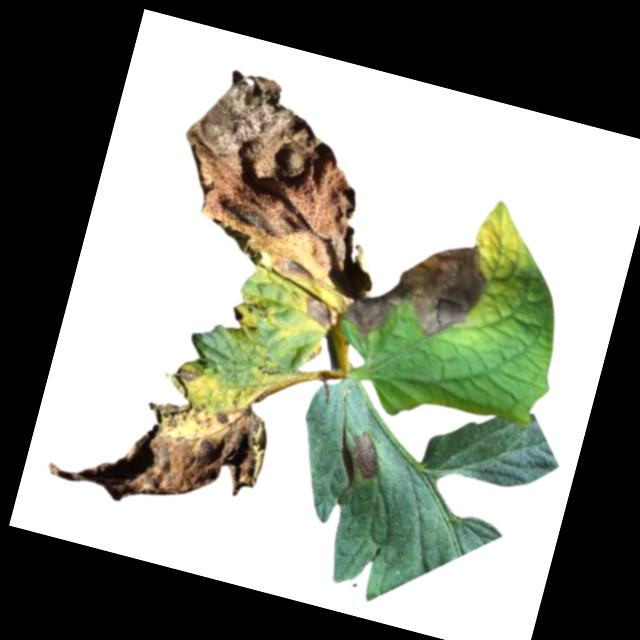Early_blight: (156, 61, 383, 288), (42, 338, 286, 536), (338, 216, 496, 362), (346, 429, 385, 481), (300, 295, 337, 330), (230, 305, 247, 323)
